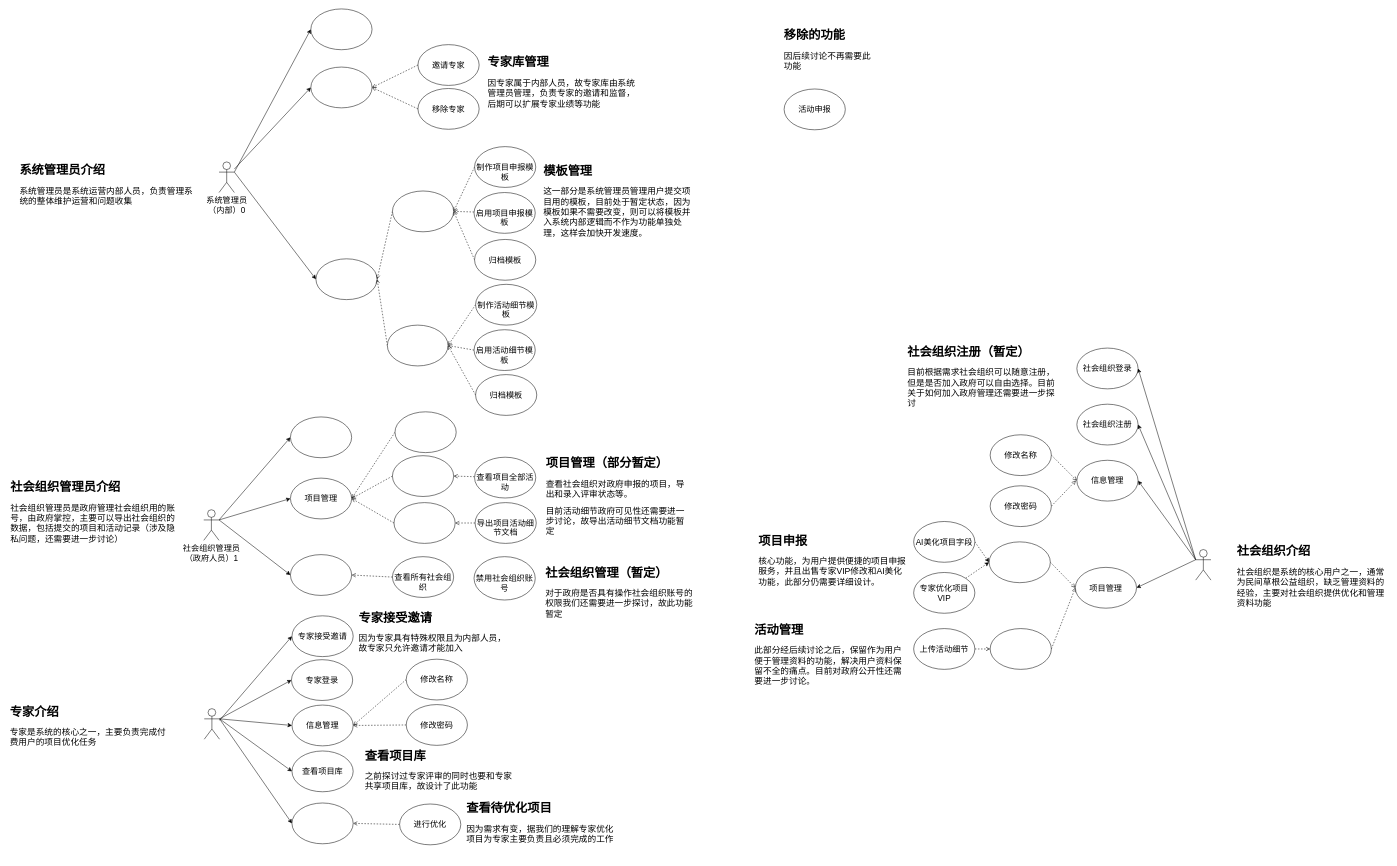
Image size: 1397x866. Some labels were removed from this diagram. Here are the shapes that lost their labels. From the top down, the centre of each, then its label:
At (x=341, y=29): "系统管理员登录".
At (x=341, y=87): "专家库管理".
At (x=423, y=211): "项目申报模板管理".
At (x=346, y=279): "模板管理".
At (x=417, y=345): "活动细节模板管理".
At (x=321, y=437): "社会组织管理员登录".
At (x=425, y=432): "录入评审结果".
At (x=423, y=475): "查看区域所有项目".
At (x=424, y=522): "导出项目书为文档".
At (x=321, y=574): "社会组织管理".
At (x=1019, y=562): "项目申报".
At (x=1203, y=564): "社会组织 （用户群体）2".
At (x=1020, y=648): "活动管理".
At (x=212, y=723): "专家 (内部）3".
At (x=322, y=823): "查看待优化项目".
